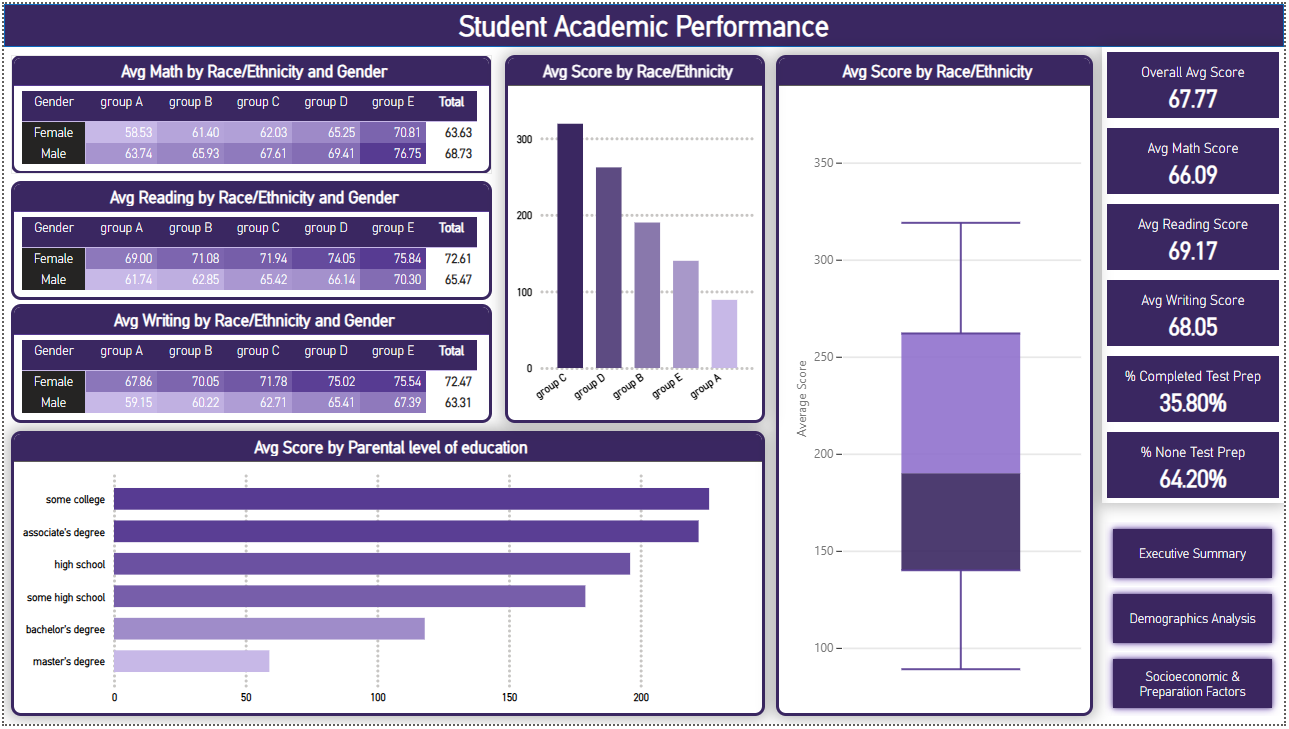

Layout of this report page (visuals, bound fields, positions):
{"tool":"powerbi","page":{"name":"Demographics Analysis","canvas":[1280,720],"ordinal":1},"visuals":[{"type":"shape","box":[0,0,1280,43],"z":0},{"type":"textbox","box":[426,0,428,43],"z":1000},{"type":"cardVisual","fields":{"Data":["Avg(StudentsPerformance.Average Score)","Avg(StudentsPerformance.Math score)","Avg(StudentsPerformance.Reading score)","Avg(StudentsPerformance.Writing score)","StudentsPerformance.% Completed Test Prep","StudentsPerformance.% None Test Prep"]},"box":[1098,43,182,456],"z":2000},{"type":"clusteredBarChart","title":"Avg Score by Parental level of education","fields":{"Y":["CountNonNull(StudentsPerformance.Average Score)"],"Category":["StudentsPerformance.Parental level of education"]},"box":[7,427,754,285],"z":7000},{"type":"BoxandWhiskerByMAQ1823AD39DT234AB532063E128AX","title":"Avg Score by Race/Ethnicity","fields":{"category":["StudentsPerformance.Race/Ethnicity"],"measure":["CountNonNull(StudentsPerformance.Average Score)"]},"box":[772,51,317,661],"z":8000},{"type":"pivotTable","title":"Avg Math by Race/Ethnicity and Gender","fields":{"Rows":["StudentsPerformance.Gender"],"Columns":["StudentsPerformance.Race/Ethnicity"],"Values":["Avg(StudentsPerformance.Math score)"]},"box":[7,51,481,119],"z":9000},{"type":"pivotTable","title":"Avg Reading by Race/Ethnicity and Gender","fields":{"Rows":["StudentsPerformance.Gender"],"Columns":["StudentsPerformance.Race/Ethnicity"],"Values":["Avg(StudentsPerformance.Reading score)"]},"box":[7,177,481,119],"z":10000},{"type":"pivotTable","title":"Avg Writing by Race/Ethnicity and Gender","fields":{"Rows":["StudentsPerformance.Gender"],"Columns":["StudentsPerformance.Race/Ethnicity"],"Values":["Avg(StudentsPerformance.Writing score)"]},"box":[7,300,481,119],"z":11000},{"type":"clusteredColumnChart","title":"Avg Score by Race/Ethnicity","fields":{"Category":["StudentsPerformance.Race/Ethnicity"],"Y":["CountNonNull(StudentsPerformance.Average Score)"]},"box":[501,51,260,368],"z":12000},{"type":"actionButton","box":[1101,647,175,65],"z":12001},{"type":"actionButton","box":[1101,582,175,65],"z":12002},{"type":"actionButton","box":[1101,517,175,65],"z":12003}]}

Visuals, with their boxes in screenshot pixels (x1, y1, x2, y2), scaled from the page's 1280x720 canvas onto the 1289x729 screenshot:
shape: Rect(0, 0, 1288, 44)
textbox: Rect(429, 0, 860, 44)
cardVisual - Avg(StudentsPerformance.Average Score) x Avg(StudentsPerformance.Math score): Rect(1106, 44, 1288, 505)
"Avg Score by Parental level of education" clusteredBarChart: Rect(7, 432, 766, 721)
"Avg Score by Race/Ethnicity" BoxandWhiskerByMAQ1823AD39DT234AB532063E128AX: Rect(777, 52, 1097, 721)
"Avg Math by Race/Ethnicity and Gender" pivotTable: Rect(7, 52, 491, 172)
"Avg Reading by Race/Ethnicity and Gender" pivotTable: Rect(7, 179, 491, 300)
"Avg Writing by Race/Ethnicity and Gender" pivotTable: Rect(7, 304, 491, 424)
"Avg Score by Race/Ethnicity" clusteredColumnChart: Rect(505, 52, 766, 424)
actionButton: Rect(1109, 655, 1285, 721)
actionButton: Rect(1109, 589, 1285, 655)
actionButton: Rect(1109, 523, 1285, 589)
